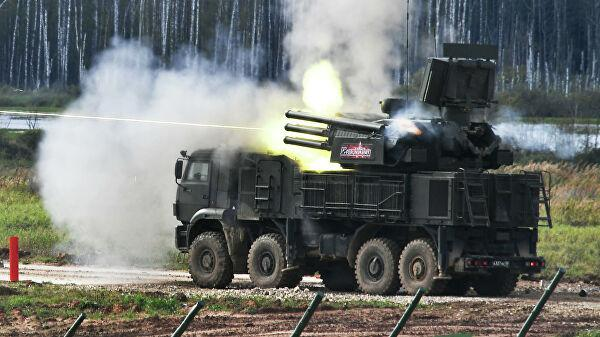truck: (170, 40, 563, 301)
